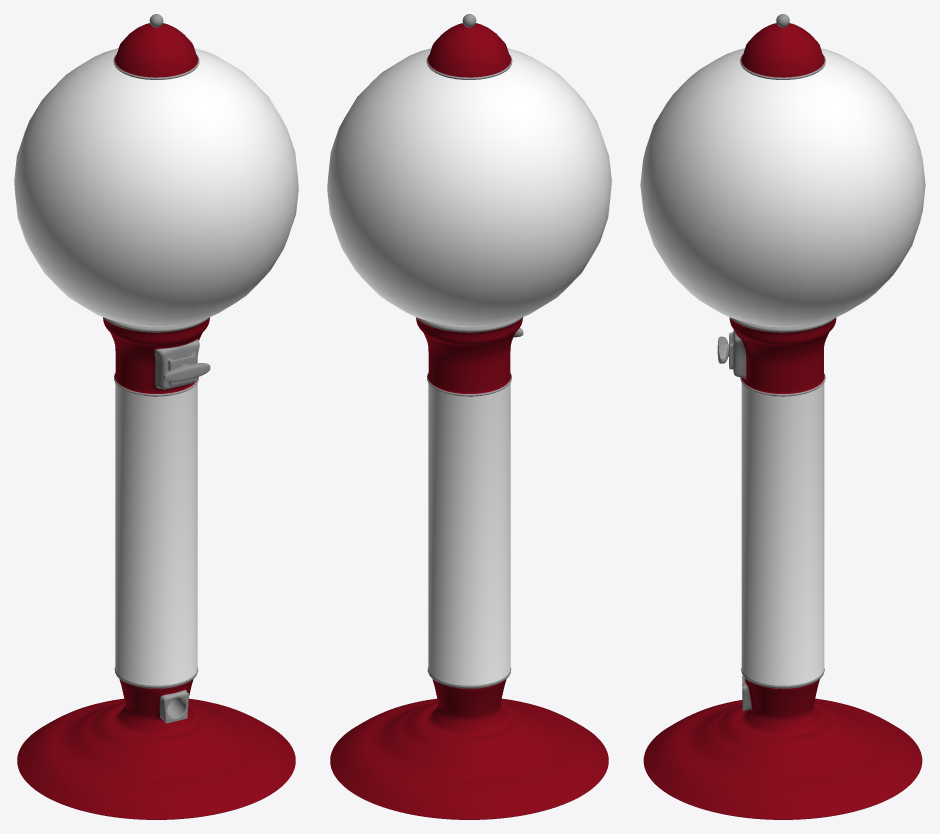
File: bubble_gum_dispenser.fbx
The picture shows the model from 3 angles, left to right: view 1: azimuth 30°, elevation 25°; view 2: azimuth 150°, elevation 25°; view 3: azimuth 270°, elevation 25°; orthographic projection.
Visible parts, largest first — view 1: Bubble Gum Dispenser; view 2: Bubble Gum Dispenser; view 3: Bubble Gum Dispenser.
Boxes of the visible parts, <box> form: Bubble Gum Dispenser: <box>14,14,298,819</box>; Bubble Gum Dispenser: <box>327,14,611,819</box>; Bubble Gum Dispenser: <box>640,14,925,819</box>.
Size of the model in its own units: 200 by 603 by 200.
